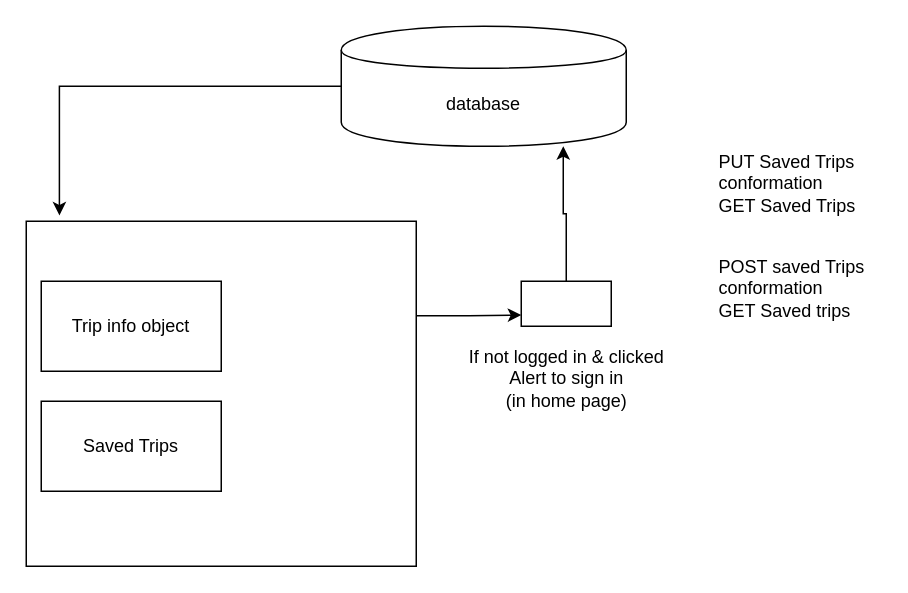
This 908x593 diagram has some shape labels left out. Here are the shapes that lost their labels. From the top down, the box of each, then its label:
(520, 280, 611, 326): save trip
(25, 220, 416, 566): Global State
